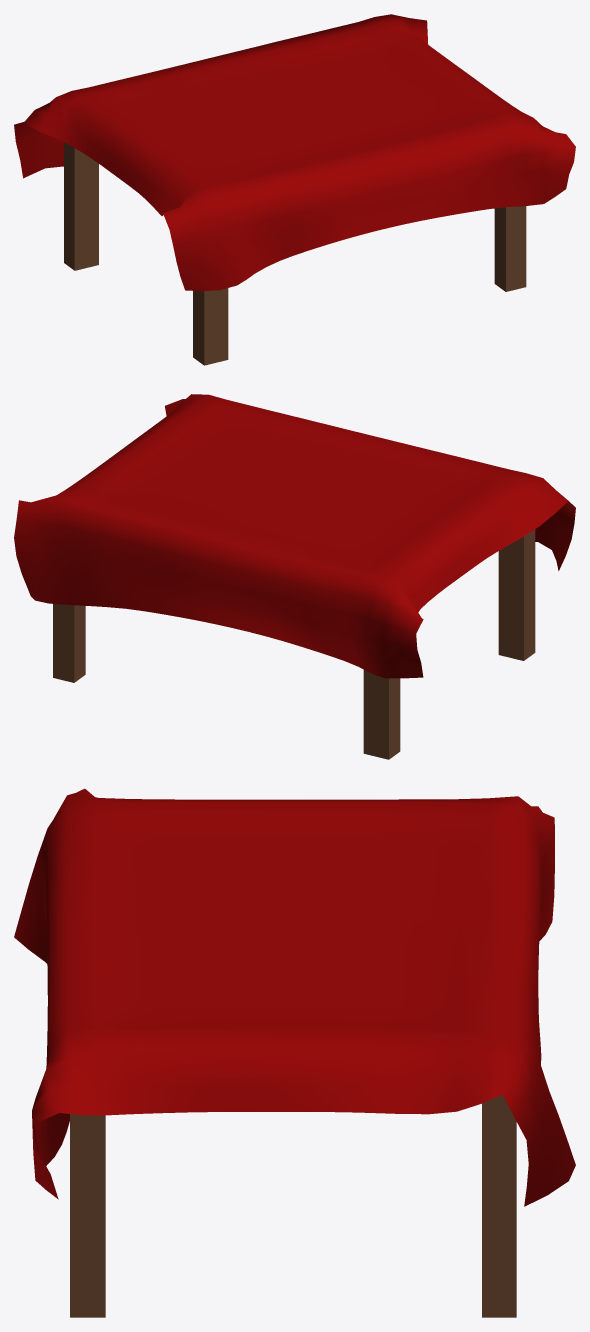
The model's file is Table.fbx.
The picture shows the model from 3 angles, top to bottom: view 1: azimuth 30°, elevation 25°; view 2: azimuth 150°, elevation 25°; view 3: azimuth 270°, elevation 25°; orthographic projection. The views are drawn at different scales.
Visible parts, largest first — view 1: polySurface3; view 2: polySurface3; view 3: polySurface3.
Boxes of the visible parts, x1=… form: polySurface3: x1=14, y1=14, x2=575, y2=365; polySurface3: x1=14, y1=394, x2=575, y2=759; polySurface3: x1=14, y1=788, x2=575, y2=1317.
Size of the model in its own units: 12.39 by 5.13 by 9.53.
